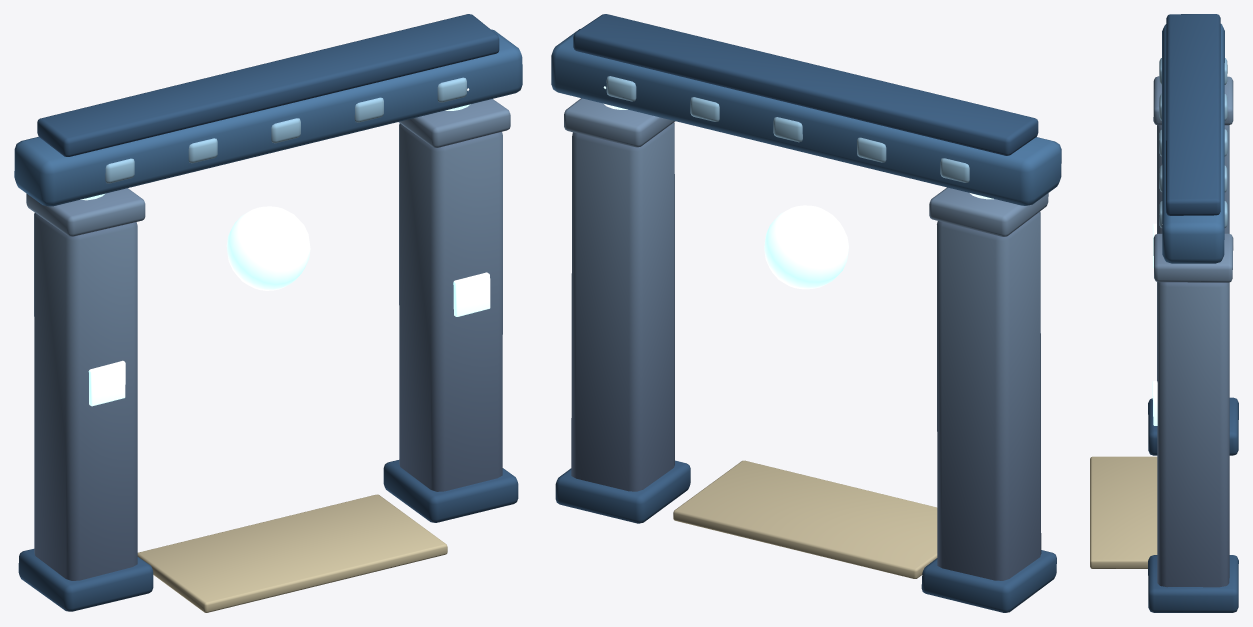
3 renders of one model, left to right at view 1: azimuth 30°, elevation 25°; view 2: azimuth 150°, elevation 25°; view 3: azimuth 270°, elevation 25°, orthographic. The views are drawn at different scales.
Visible parts, largest first — view 1: gate_b8503fba; view 2: gate_b8503fba; view 3: gate_b8503fba.
Boxes of the visible parts, x1,y1,x2,y2 form: gate_b8503fba: (14, 14, 522, 612); gate_b8503fba: (551, 14, 1061, 612); gate_b8503fba: (1090, 14, 1238, 612).
Bounding box in the file's own units: 4.76 × 4.4 × 1.44.
